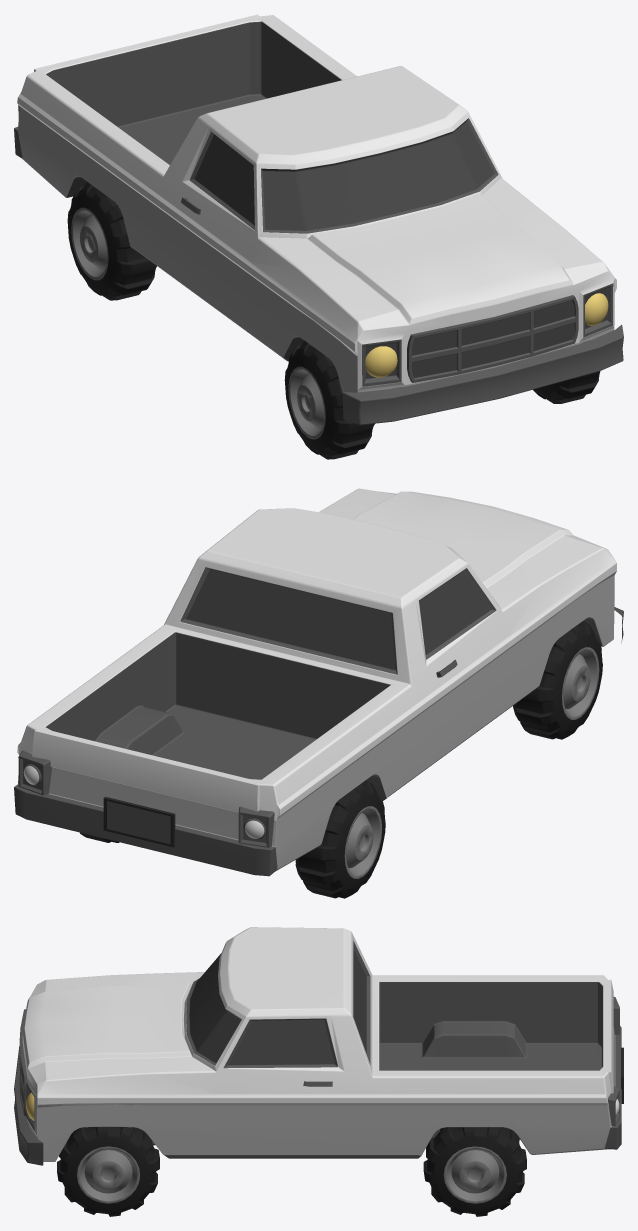
The model's file is pickup.glb.
3 views of the same model, one above another, from view 1: azimuth 30°, elevation 25°; view 2: azimuth 150°, elevation 25°; view 3: azimuth 270°, elevation 25° (orthographic). The views are drawn at different scales.
Parts seen in each view (by area): view 1: Pickup, BackWheels, FrontWheel_R, FrontWheel_L; view 2: Pickup, BackWheels, FrontWheel_R; view 3: Pickup, BackWheels, FrontWheel_L.
Part boxes in pixels (x1,y1,x2,y2): Pickup: [14, 14, 623, 424]; BackWheels: [67, 182, 156, 300]; FrontWheel_R: [284, 341, 374, 459]; FrontWheel_L: [533, 371, 600, 403]; Pickup: [14, 488, 623, 876]; BackWheels: [80, 780, 385, 898]; FrontWheel_R: [513, 621, 602, 739]; Pickup: [14, 927, 623, 1165]; BackWheels: [423, 1127, 526, 1216]; FrontWheel_L: [57, 1127, 159, 1216].
Size of the model in its own units: 2.31 by 1.85 by 5.18.
Materials: 4 (1 with a texture image).
